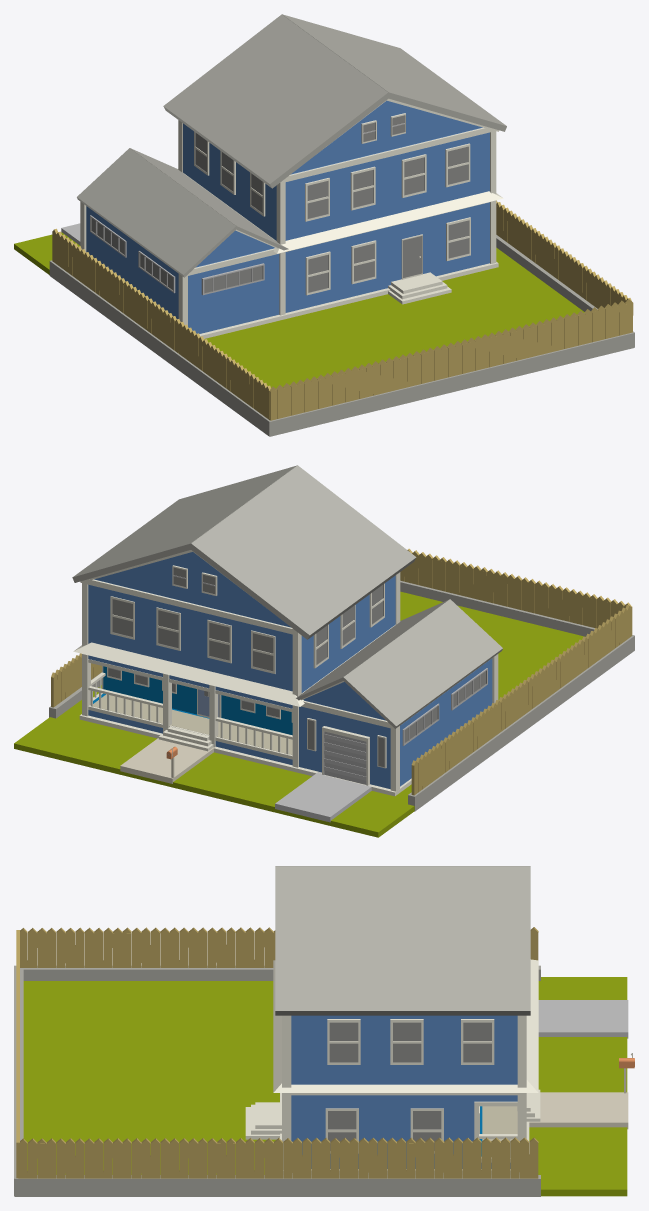
The model's file is house8.fbx.
The picture shows the model from 3 angles, top to bottom: view 1: azimuth 30°, elevation 25°; view 2: azimuth 150°, elevation 25°; view 3: azimuth 270°, elevation 25°; orthographic projection. The views are drawn at different scales.
Visible parts, largest first — view 1: Cube_27; view 2: Cube_27; view 3: Cube_27.
Part boxes in pixels (x1,y1,x2,y2): Cube_27: (14, 14, 634, 436); Cube_27: (14, 465, 634, 837); Cube_27: (14, 866, 634, 1196).
Bounding box in the file's own units: 2228 × 1219 × 2738.
